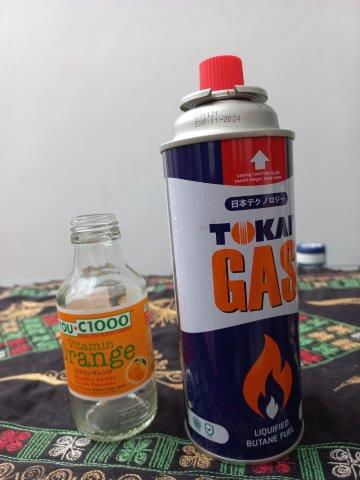botolkaca: (56, 214, 158, 442)
kaleng: (161, 56, 306, 465)
